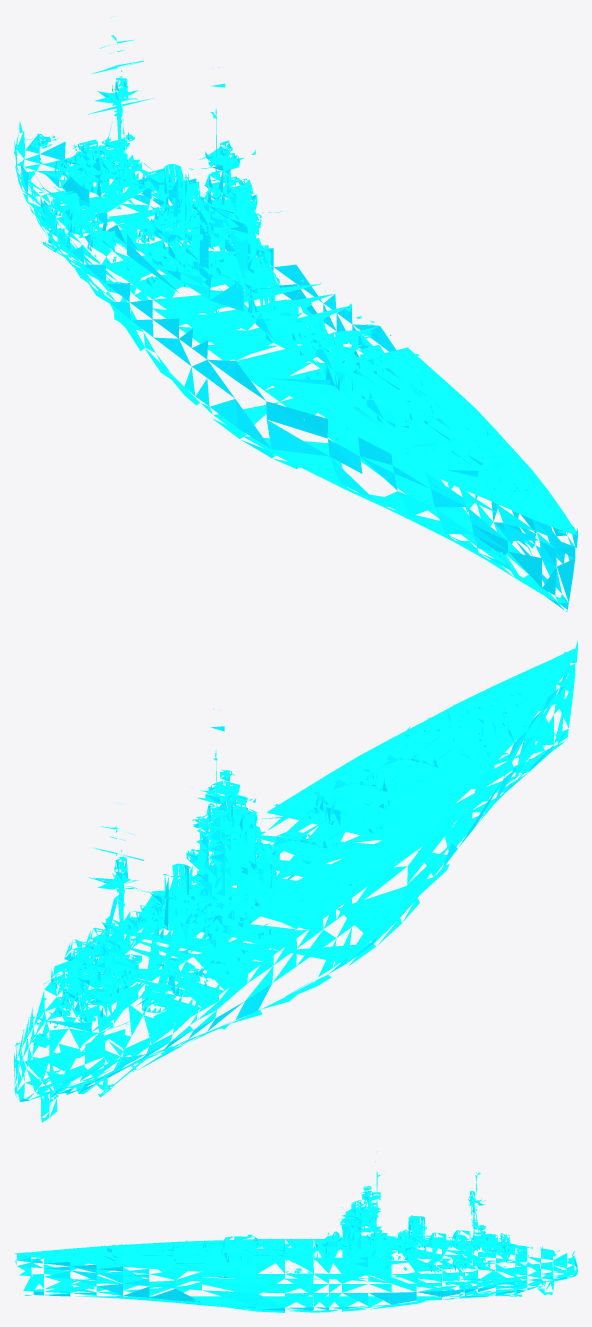
The model's file is Rodney.glb.
3 views of the same model, one above another, from view 1: azimuth 30°, elevation 25°; view 2: azimuth 150°, elevation 25°; view 3: azimuth 270°, elevation 25° (orthographic). The views are drawn at different scales.
Size of the model in its own units: 2.15 by 4.07 by 14.4.
